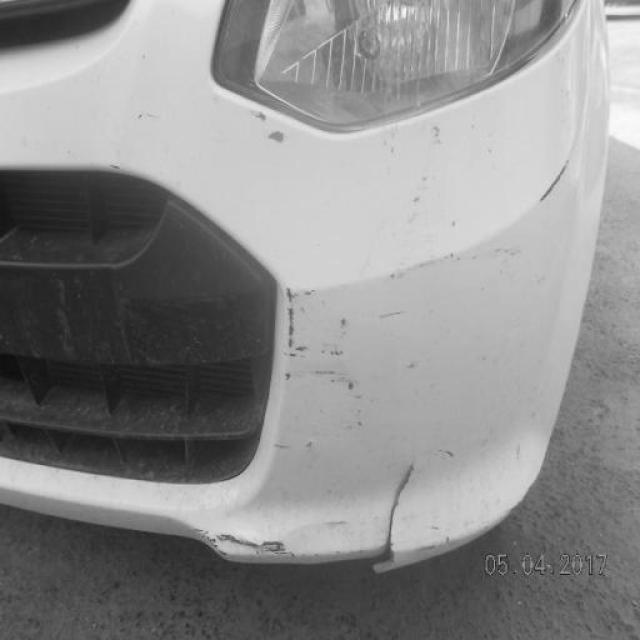dent: (201, 522, 301, 563)
scratch: (312, 310, 371, 441), (281, 284, 303, 392), (243, 101, 293, 147), (537, 155, 572, 214)
tear: (367, 459, 419, 575)
